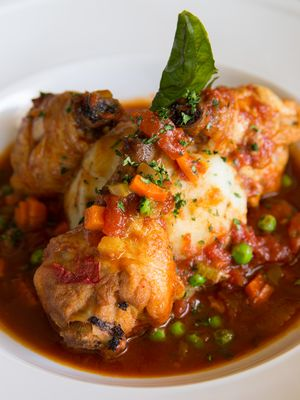curry: (149, 9, 221, 126)
